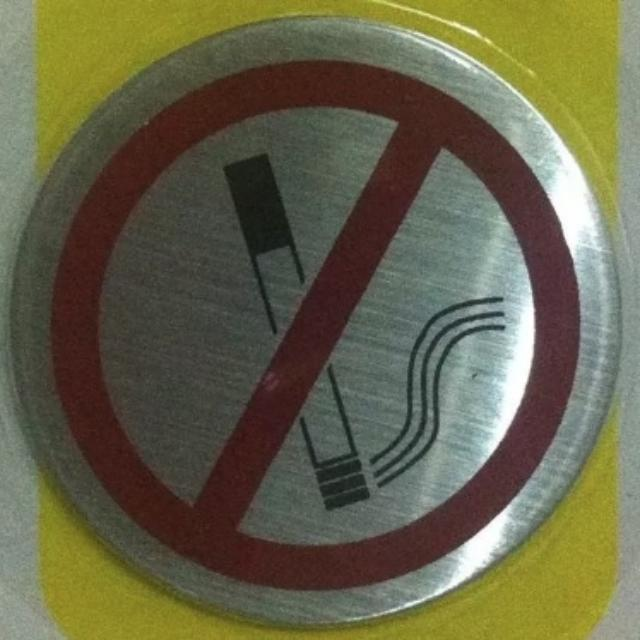cam hut thuoc: (53, 60, 578, 585)
